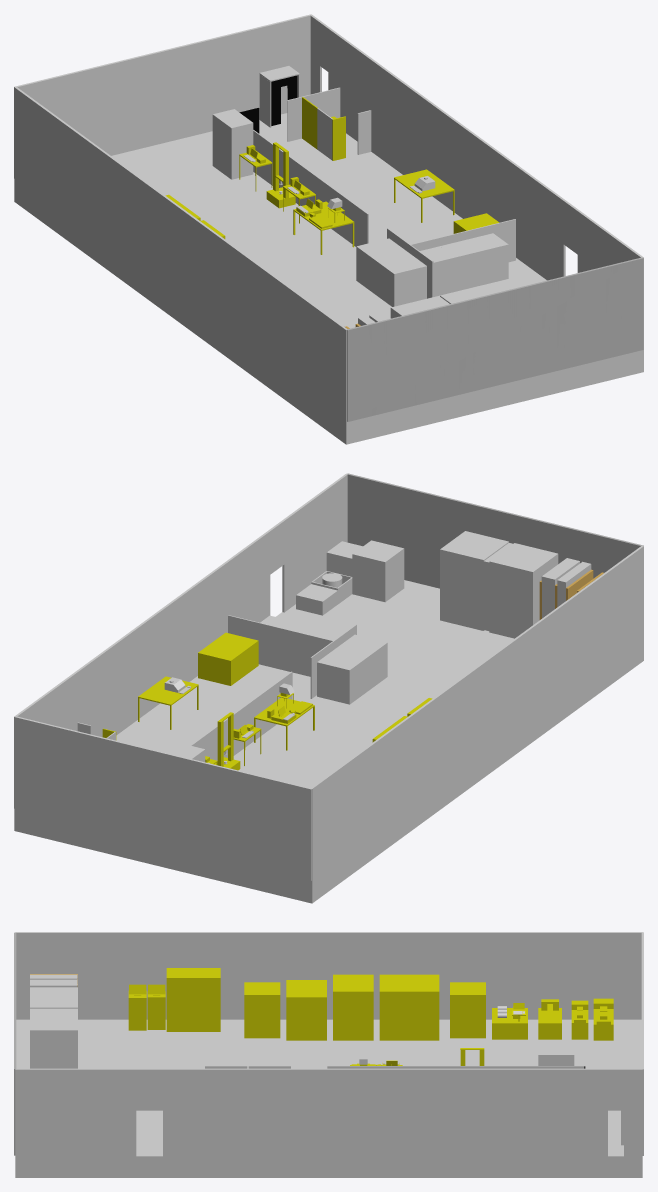
The model's file is equipment_storage_room.glb.
The picture shows the model from 3 angles, top to bottom: view 1: azimuth 30°, elevation 25°; view 2: azimuth 150°, elevation 25°; view 3: azimuth 270°, elevation 25°; orthographic projection. The views are drawn at different scales.
Parts seen in each view (by area): view 1: floor, wall, wall2, wall3, wall1, nutrient_solution_supply_tester, universal_testing_machine, pH_sensor_tester, CO2_tester, heat_permeability_tester, EC_sensor_tester, steel (+10 smaller); view 2: floor, wall, wall1, wall3, wall2, heat_permeability_tester, compound_vibration_tester, nutrient_solution_supply_tester, laser_cutting_machine, partition2, partition1, table (+3 smaller); view 3: wall3, wall, floor, sensor_continuity_tester, rainfall_and_flooding_tester, heat_permeability_tester, thermal_shock_tester, moisture_permeability_meter, greenhouse_environmental_simulation_chamber, soil_drying_oven, durability_test_equipment2, soil_moisture_content_tester (+7 smaller).
Boxes of the visible parts, <box> form: floor: <box>14,113,643,444</box>; wall: <box>14,87,347,421</box>; wall2: <box>347,257,643,421</box>; wall3: <box>310,15,643,348</box>; wall1: <box>14,14,312,178</box>; nutrient_solution_supply_tester: <box>356,238,426,306</box>; universal_testing_machine: <box>212,109,253,179</box>; pH_sensor_tester: <box>467,233,508,285</box>; CO2_tester: <box>440,239,481,291</box>; heat_permeability_tester: <box>390,285,494,318</box>; EC_sensor_tester: <box>420,246,455,296</box>; steel: <box>259,66,299,127</box>; floor: <box>14,580,643,903</box>; wall: <box>310,545,643,880</box>; wall1: <box>14,716,311,880</box>; wall3: <box>14,473,347,737</box>; wall2: <box>347,473,643,588</box>; heat_permeability_tester: <box>440,531,558,638</box>; compound_vibration_tester: <box>296,540,404,615</box>; nutrient_solution_supply_tester: <box>317,634,387,704</box>; laser_cutting_machine: <box>198,632,258,685</box>; partition2: <box>280,628,306,675</box>; partition1: <box>254,621,280,669</box>; table: <box>138,676,198,729</box>; wall3: <box>15,1068,642,1156</box>; wall: <box>15,932,642,1019</box>; floor: <box>15,1019,642,1177</box>; sensor_continuity_tester: <box>147,968,220,1031</box>; rainfall_and_flooding_tester: <box>379,974,439,1040</box>; heat_permeability_tester: <box>30,987,77,1068</box>; thermal_shock_tester: <box>333,974,373,1040</box>; moisture_permeability_meter: <box>286,980,326,1040</box>; greenhouse_environmental_simulation_chamber: <box>244,982,280,1038</box>; soil_drying_oven: <box>450,982,485,1038</box>; durability_test_equipment2: <box>571,998,613,1040</box>; soil_moisture_content_tester: <box>492,1006,527,1039</box>.
Size of the model in its own units: 0.136 by 0.05 by 0.2635.
